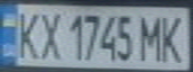1: (63, 10, 84, 61)
4: (100, 11, 121, 61)
5: (115, 11, 139, 62)
7: (78, 10, 100, 61)
K: (9, 8, 45, 61), (157, 11, 190, 63)
M: (136, 11, 166, 63)
X: (33, 8, 63, 61)
